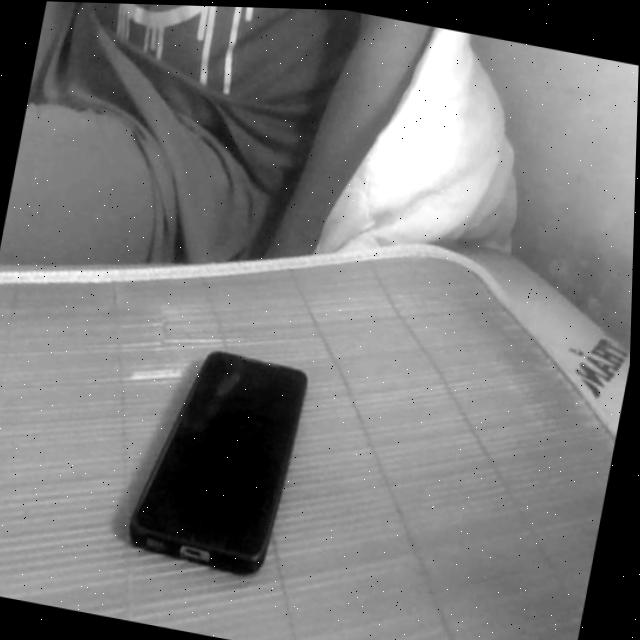phone: (107, 308, 331, 601)
